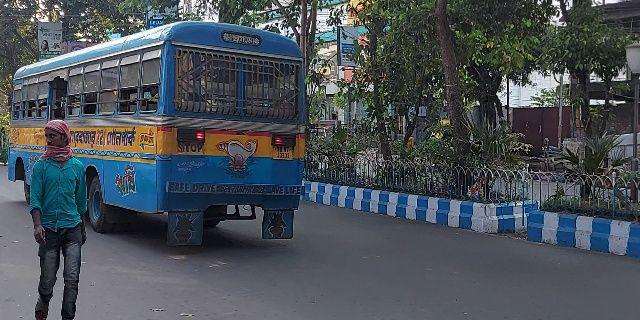Bus: (2, 20, 310, 258)
